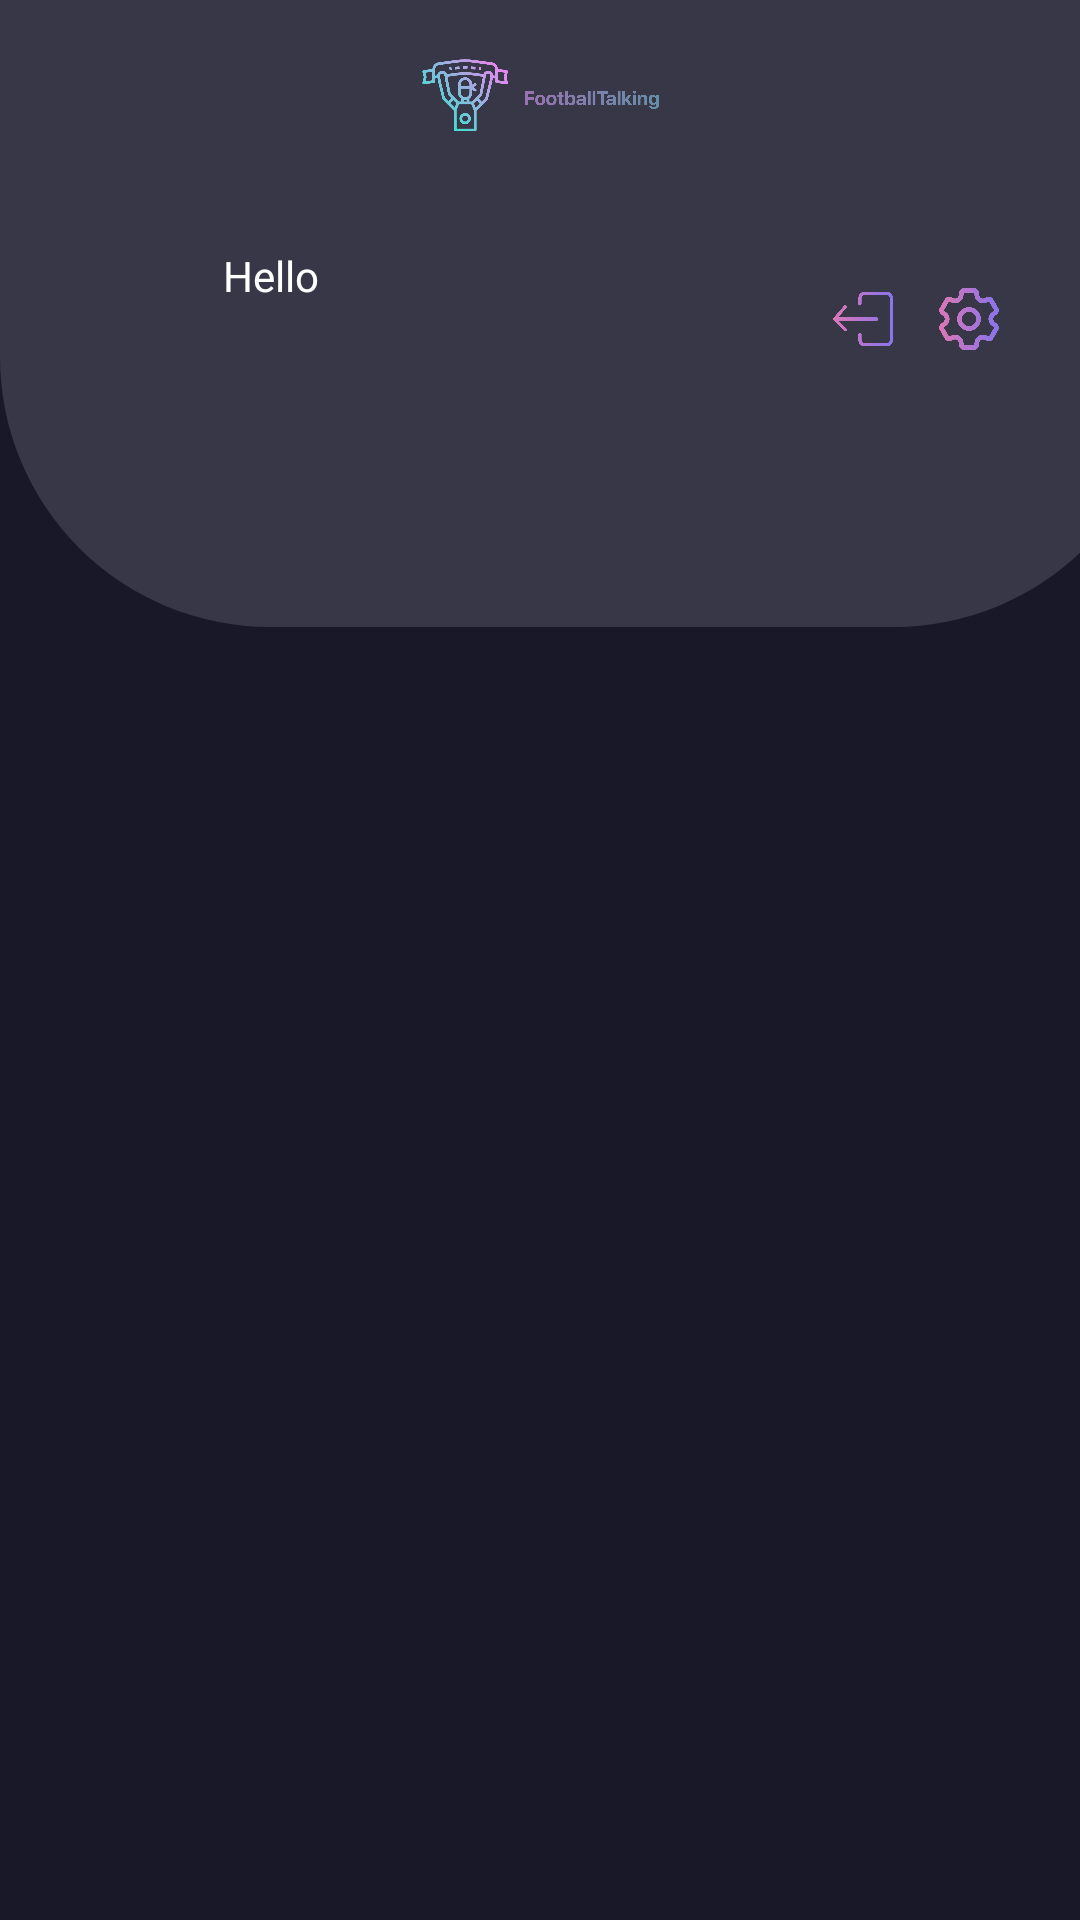

Icon bounding boxes for this 1080 x 1920 phone screenshot, format (x1, y1, x2, y2):
setting: (939, 288, 999, 350)
